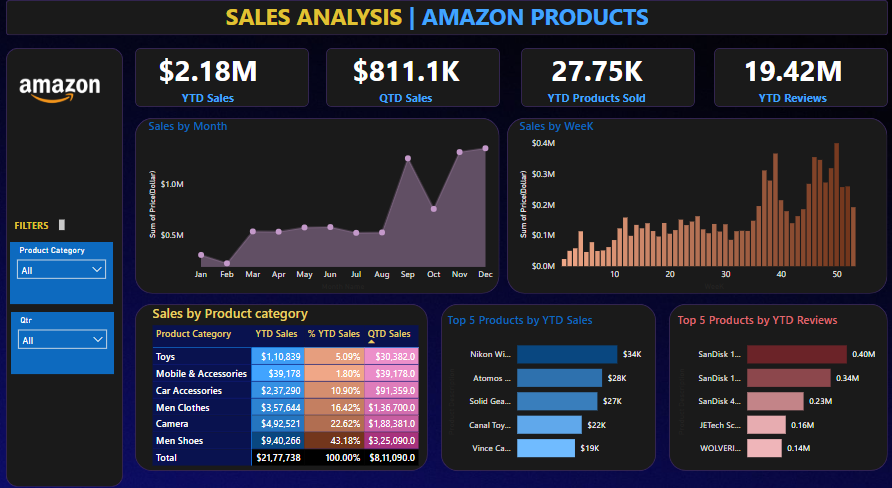

The dashboard page shown, as its layout file describes it:
{"tool":"powerbi","page":{"name":"Page 1","canvas":[1280,720],"ordinal":0},"visuals":[{"type":"shape","box":[955.3,446.5,310.4,236.7],"z":0},{"type":"shape","box":[15.1,15.1,1249.8,50.4],"z":1000},{"type":"shape","box":[15.6,83.6,165.8,622.2],"z":2000},{"type":"shape","box":[469.1,83.6,246.6,83.6],"z":3000},{"type":"shape","box":[198.4,83.6,246.6,83.6],"z":4000},{"type":"card","fields":{"Values":["Amazon_Data.YTD Sales"]},"box":[225.4,78,153.1,95],"z":5000},{"type":"shape","box":[1019.1,83.6,246.6,83.6],"z":6000},{"type":"card","fields":{"Values":["Amazon_Data.QTD Sales"]},"box":[498.9,78,167.2,95],"z":7000},{"type":"shape","box":[745.5,83.6,246.6,83.6],"z":8000},{"type":"card","fields":{"Values":["Amazon_Data.YTD Products Sold"]},"box":[769.6,78,167.2,95],"z":9000},{"type":"card","fields":{"Values":["Amazon_Data.YTD Reviews"]},"box":[1047.4,78,167.2,95],"z":10000},{"type":"shape","box":[198.4,182.8,517.3,249.4],"z":11000},{"type":"areaChart","title":"Sales by Month","fields":{"Category":["Date Table.Month Name"],"Y":["Sum(Amazon_Data.Price(Dollar))"]},"box":[212.6,182.8,503.1,249.4],"z":12000},{"type":"shape","box":[725.7,182.8,540,249.4],"z":13000},{"type":"columnChart","title":"Sales by WeeK","fields":{"Category":["Date Table.WeeK"],"Y":["Sum(Amazon_Data.Price(Dollar))"]},"box":[738.4,182.8,506,249.4],"z":14000},{"type":"shape","box":[198.4,446.5,415.3,236.7],"z":15000},{"type":"pivotTable","title":"Sales by Product category","fields":{"Rows":["Amazon_Data.Product Category"],"Values":["Amazon_Data.YTD Sales1","Amazon_Data.YTD Sales","Amazon_Data.QTD Sales"]},"box":[218.3,446.5,418.1,273.5],"z":16000},{"type":"shape","box":[632.1,446.5,304.7,236.7],"z":17000},{"type":"clusteredBarChart","title":"Top 5 Products by YTD Sales","fields":{"Category":["Amazon_Data.Product Description"],"Y":["Amazon_Data.YTD Sales"]},"box":[636.4,457.8,296.2,225.4],"z":18000},{"type":"clusteredBarChart","title":"Top 5 Products by YTD Reviews","fields":{"Category":["Amazon_Data.Product Description"],"Y":["Amazon_Data.YTD Reviews"]},"box":[962.4,457.8,296.2,225.4],"z":19000},{"type":"slicer","fields":{"Values":["Amazon_Data.Product Category"]},"box":[21.3,358.6,146,87.9],"z":20000},{"type":"slicer","fields":{"Values":["Date Table.Qtr"]},"box":[22.7,457.8,146,87.9],"z":21000},{"type":"image","box":[15.6,72.3,151.7,143.1],"z":22000},{"type":"textbox","box":[321.7,11.3,623.6,66.6],"z":23000},{"type":"textbox","box":[22.7,321.7,80.8,25.5],"z":24000}]}

Visuals, with their boxes in screenshot pixels (x1, y1, x2, y2), scaled from the page's 1280x720 canvas onto the 892x488 screenshot:
shape: region(666, 303, 882, 463)
shape: region(11, 10, 881, 44)
shape: region(11, 57, 126, 478)
shape: region(327, 57, 499, 113)
shape: region(138, 57, 310, 113)
card - Amazon_Data.YTD Sales: region(157, 53, 264, 117)
shape: region(710, 57, 882, 113)
card - Amazon_Data.QTD Sales: region(348, 53, 464, 117)
shape: region(520, 57, 691, 113)
card - Amazon_Data.YTD Products Sold: region(536, 53, 653, 117)
card - Amazon_Data.YTD Reviews: region(730, 53, 846, 117)
shape: region(138, 124, 499, 293)
"Sales by Month" areaChart: region(148, 124, 499, 293)
shape: region(506, 124, 882, 293)
"Sales by WeeK" columnChart: region(515, 124, 867, 293)
shape: region(138, 303, 428, 463)
"Sales by Product category" pivotTable: region(152, 303, 443, 487)
shape: region(440, 303, 653, 463)
"Top 5 Products by YTD Sales" clusteredBarChart: region(443, 310, 650, 463)
"Top 5 Products by YTD Reviews" clusteredBarChart: region(671, 310, 877, 463)
slicer - Amazon_Data.Product Category: region(15, 243, 117, 303)
slicer - Date Table.Qtr: region(16, 310, 118, 370)
image: region(11, 49, 117, 146)
textbox: region(224, 8, 659, 53)
textbox: region(16, 218, 72, 235)
